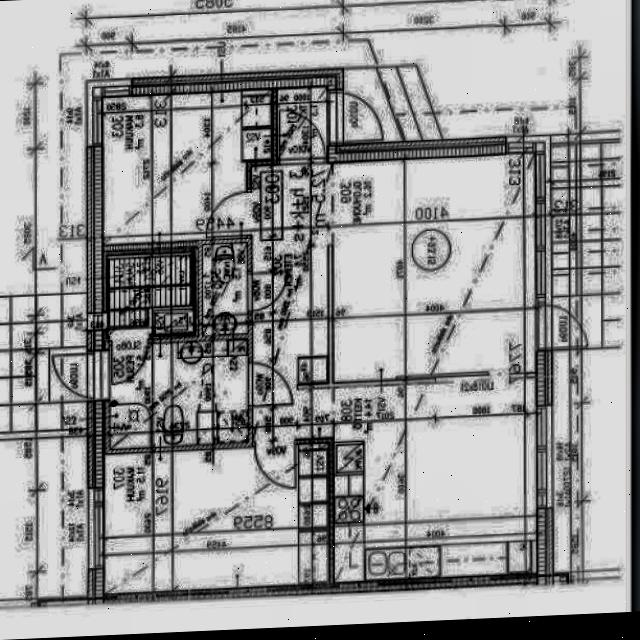room: (98, 443, 335, 593), (97, 88, 279, 243), (107, 339, 252, 448), (100, 247, 199, 339), (203, 242, 246, 334), (278, 86, 327, 159)
